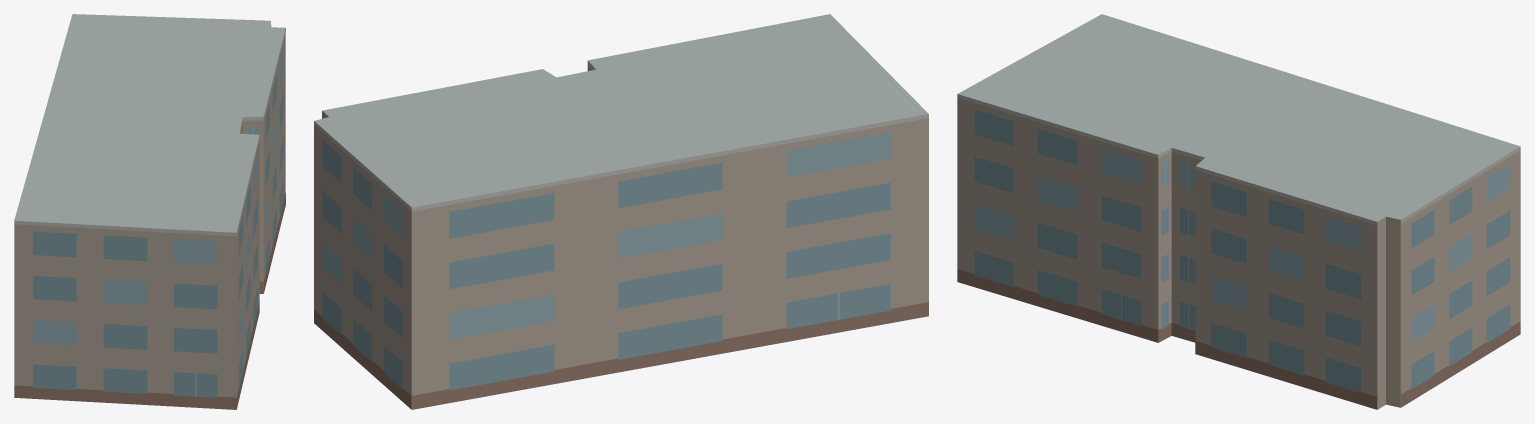
Rendered from survey-upis-32839288.glb.
The picture shows the model from 3 angles, left to right: view 1: azimuth 30°, elevation 25°; view 2: azimuth 150°, elevation 25°; view 3: azimuth 270°, elevation 25°; orthographic projection. The views are drawn at different scales.
Visible parts, largest first — view 1: survey-upis-32839288.tmp; view 2: survey-upis-32839288.tmp; view 3: survey-upis-32839288.tmp.
Boxes of the visible parts, <box> form: survey-upis-32839288.tmp: <box>14,14,285,409</box>; survey-upis-32839288.tmp: <box>314,14,928,409</box>; survey-upis-32839288.tmp: <box>957,14,1520,409</box>.
Bounding box in the file's own units: 28.95 × 12.2 × 33.14.
